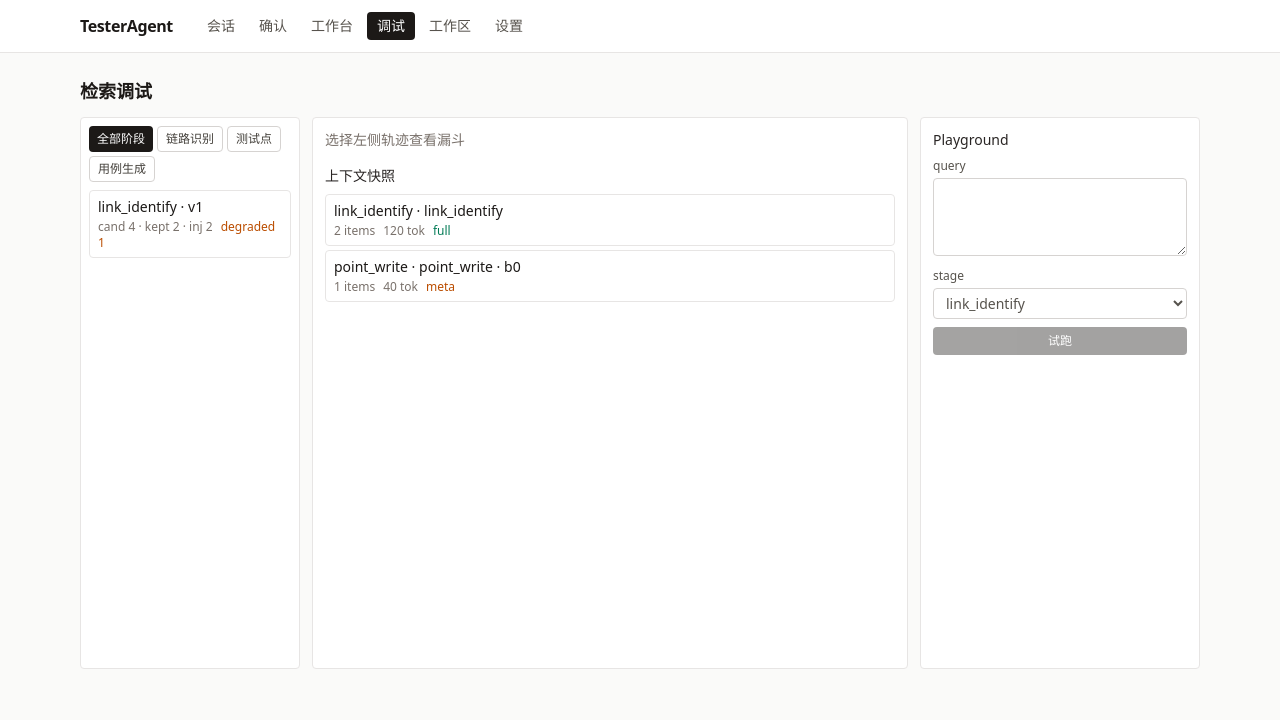
Test case: WP-F4 RetrievalDebugPage › full 快照点 item 弹窗拉到正文；meta 档禁用并黄标
The image size is (1280, 720).
Click the button with test id "snap-item-snap-full": (373, 210) [325,194,895,246]
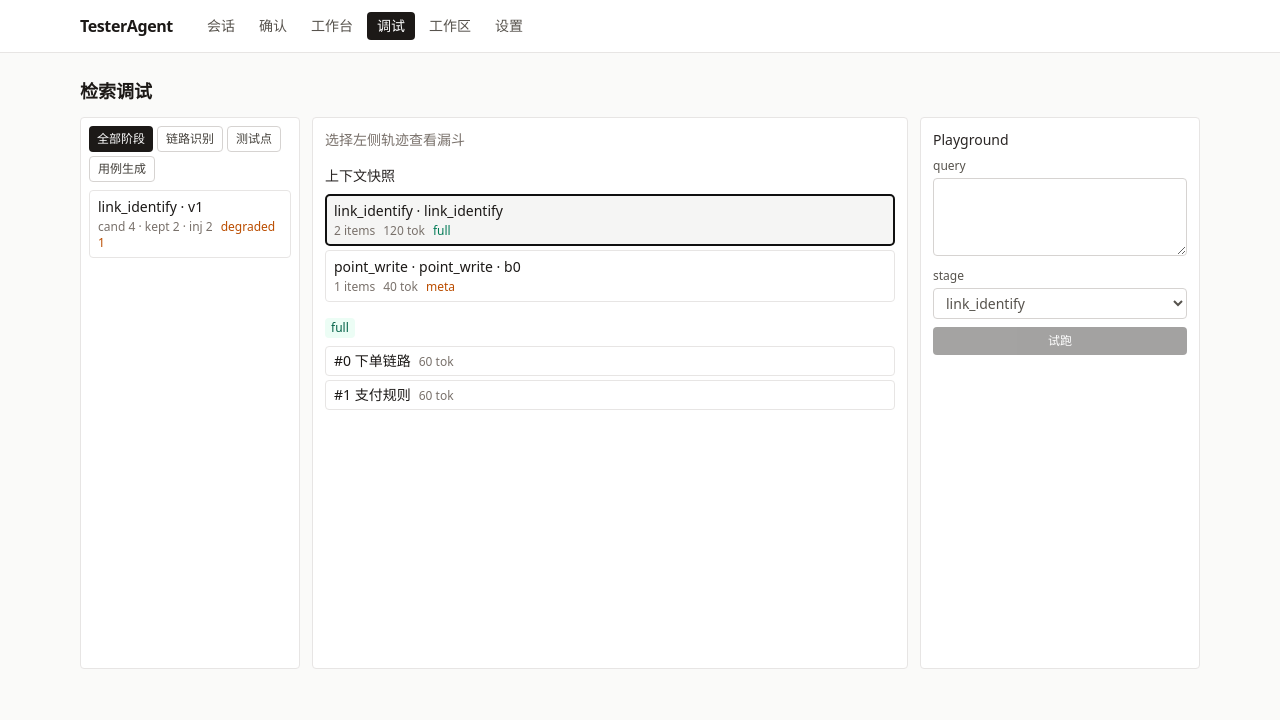
Now the element with test id "snapshot-detail" is shown, box [325,318,895,410]
Click the button with test id "snap-pos-0": (383, 360) [325,346,895,376]
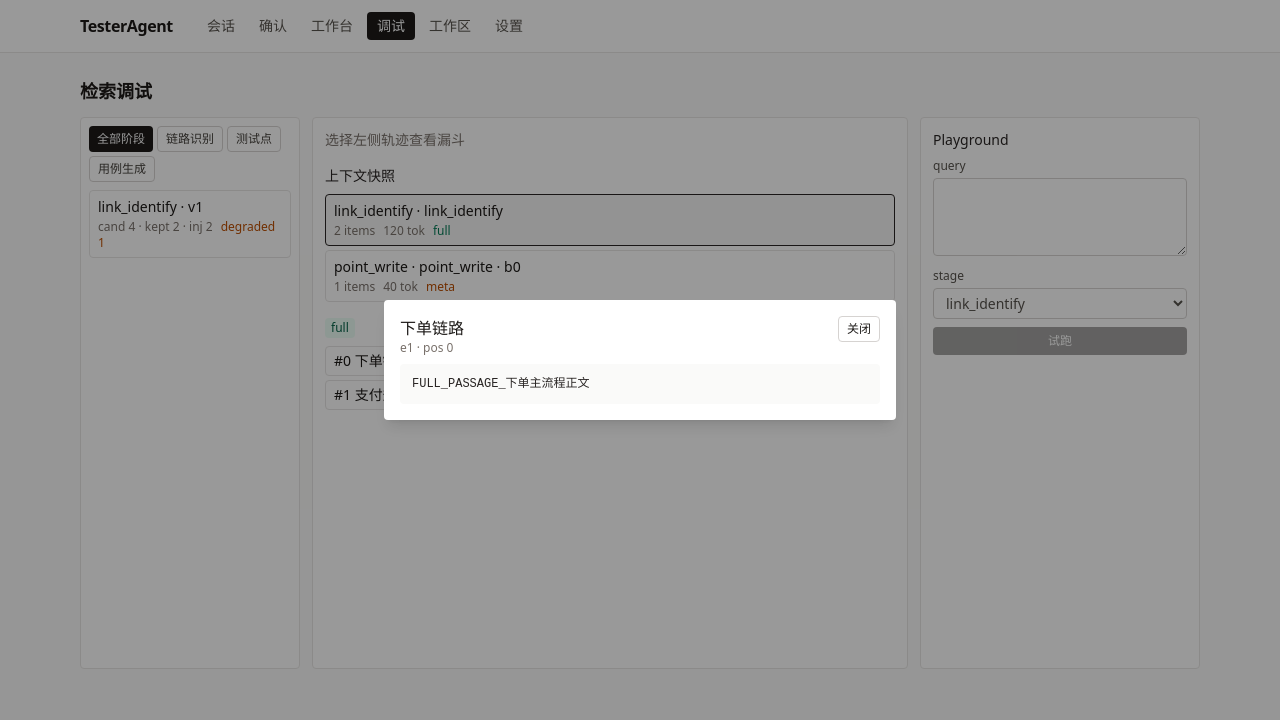
Now the element with test id "snapshot-item-dialog" shows "FULL_PASSAGE_下单主流程正文", box [412,377,590,391]
Click the button with test id "close-snapshot-dialog": (859, 329) [838,316,880,342]
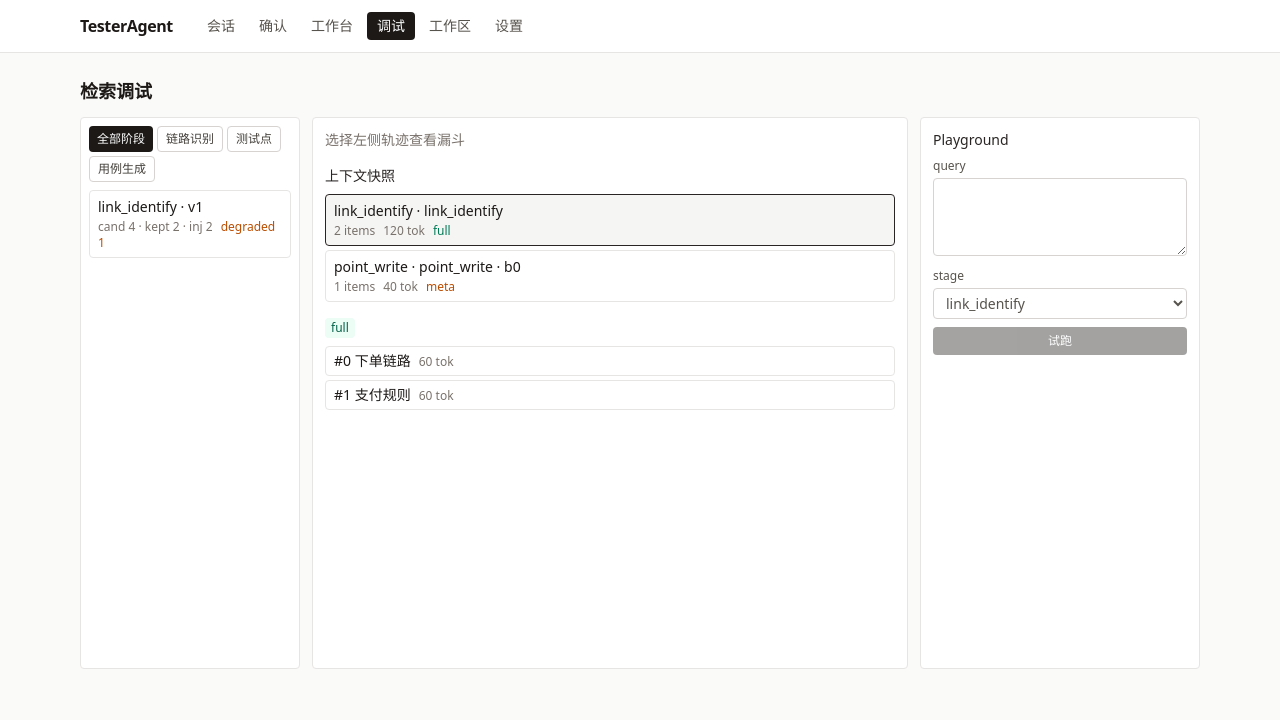
Click the button with test id "snap-item-snap-meta": (371, 266) [325,250,895,302]
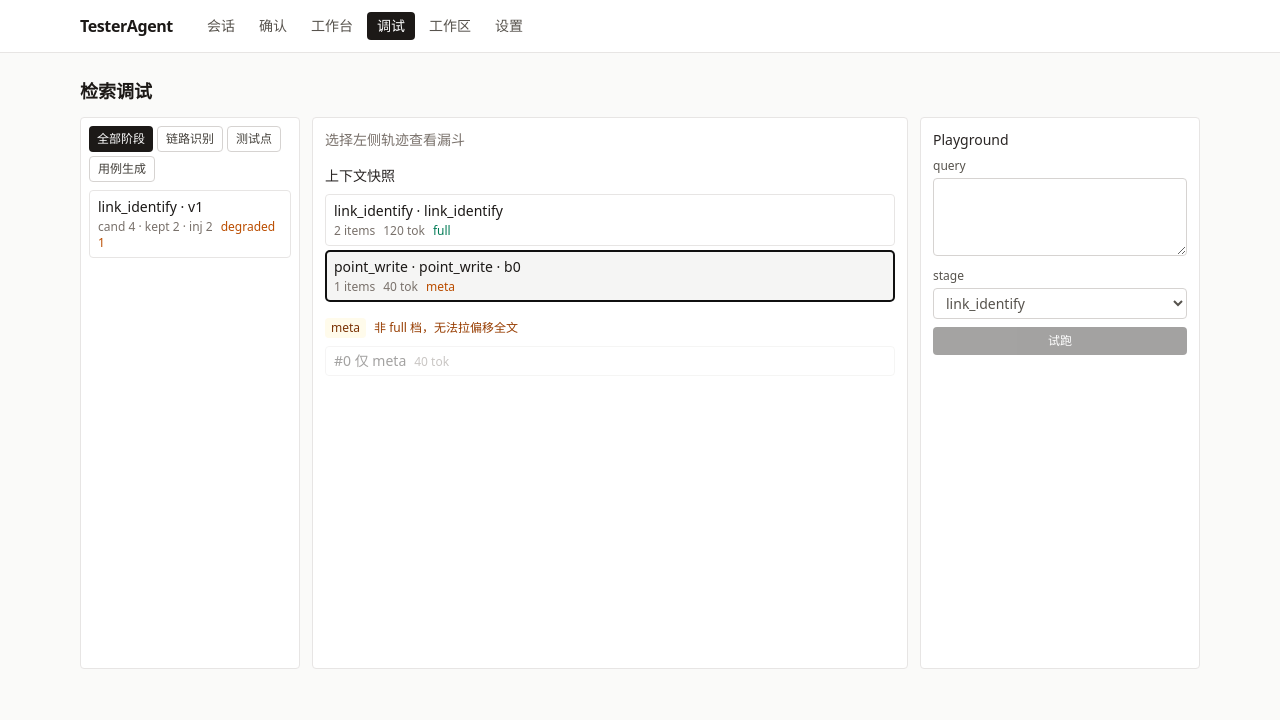
Now the text with test id "snapshot-level-badge" reads "meta", box [331,319,360,336]
Now the button with test id "snap-pos-0" is disabled, box [325,346,895,376]
